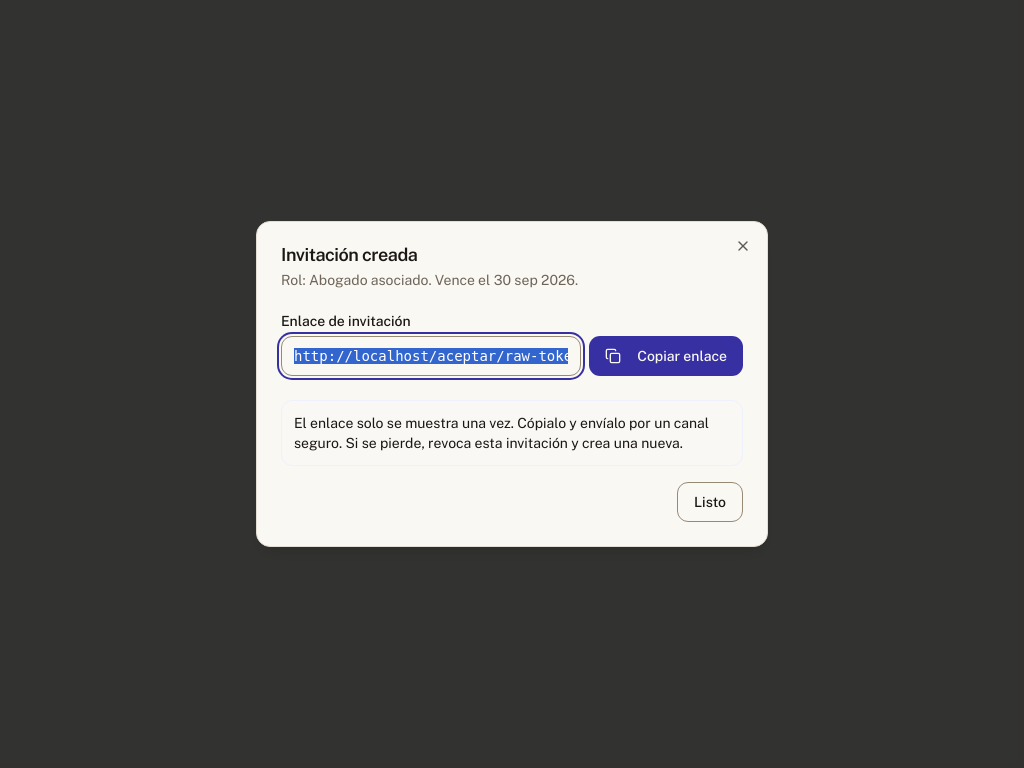
it: InvitationLinkModal › "Copiar enlace" writes it to the clipboard and says so
Click the button "Copiar enlace" at (666, 356), box [589,336,743,376]
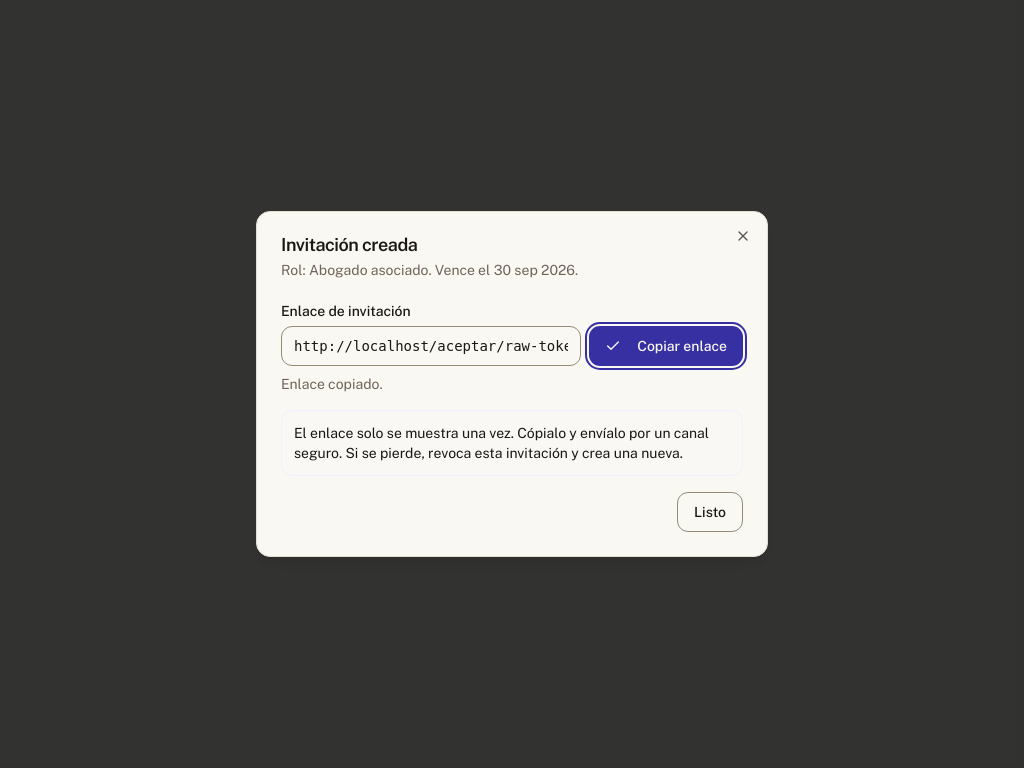
Result: the text "Enlace copiado." is shown at [281,376,383,392]
